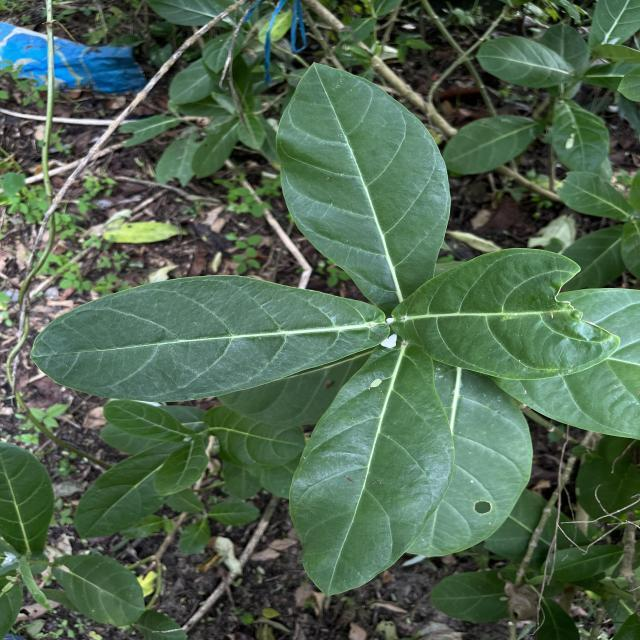Calotropis gigantea: (28, 271, 393, 405), (286, 340, 459, 601), (273, 59, 454, 308), (426, 362, 537, 560), (48, 551, 149, 628), (0, 441, 58, 562), (442, 114, 544, 176), (476, 33, 573, 89), (553, 100, 610, 174)
